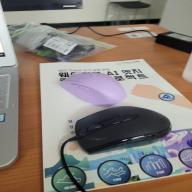mouse: (75, 106, 174, 158), (61, 72, 128, 106)
